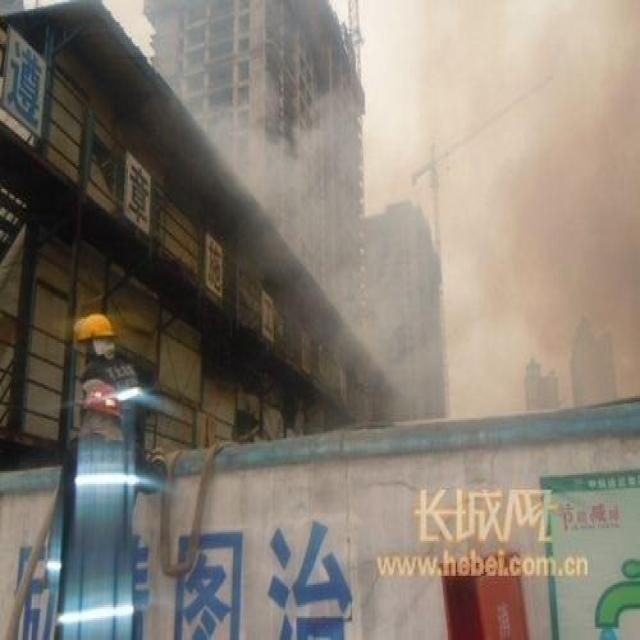Smoke: (188, 1, 640, 424)
